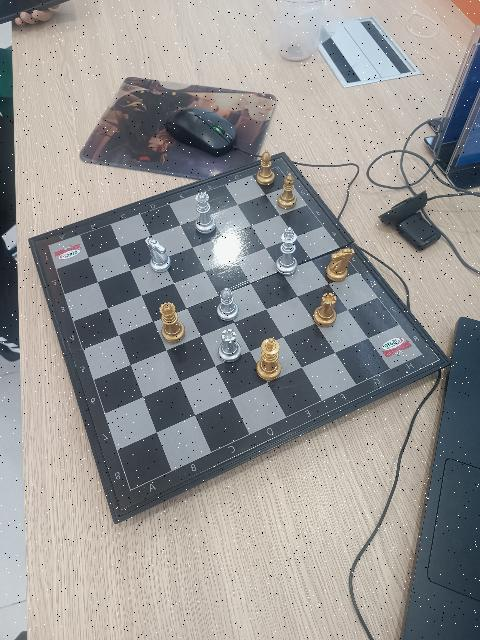black_bishop: (254, 149, 275, 187), (278, 172, 297, 208)
black_king: (257, 338, 281, 381)
black_knight: (327, 247, 355, 282)
black_queen: (158, 302, 185, 344)
black_rook: (313, 292, 338, 329)
white_bishop: (215, 287, 239, 322)
white_king: (274, 227, 298, 277)
white_knight: (146, 238, 172, 271)
white_queen: (194, 191, 217, 234)
white_rook: (218, 329, 241, 362)
